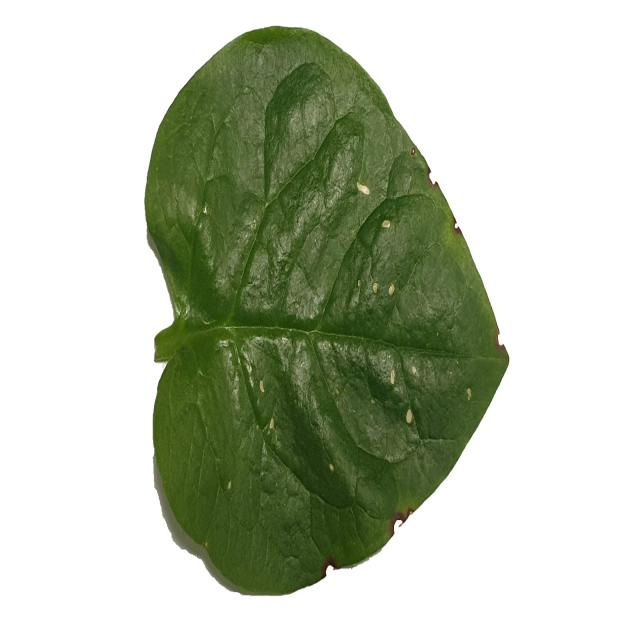Medicinal-Basale: (140, 21, 508, 596)
